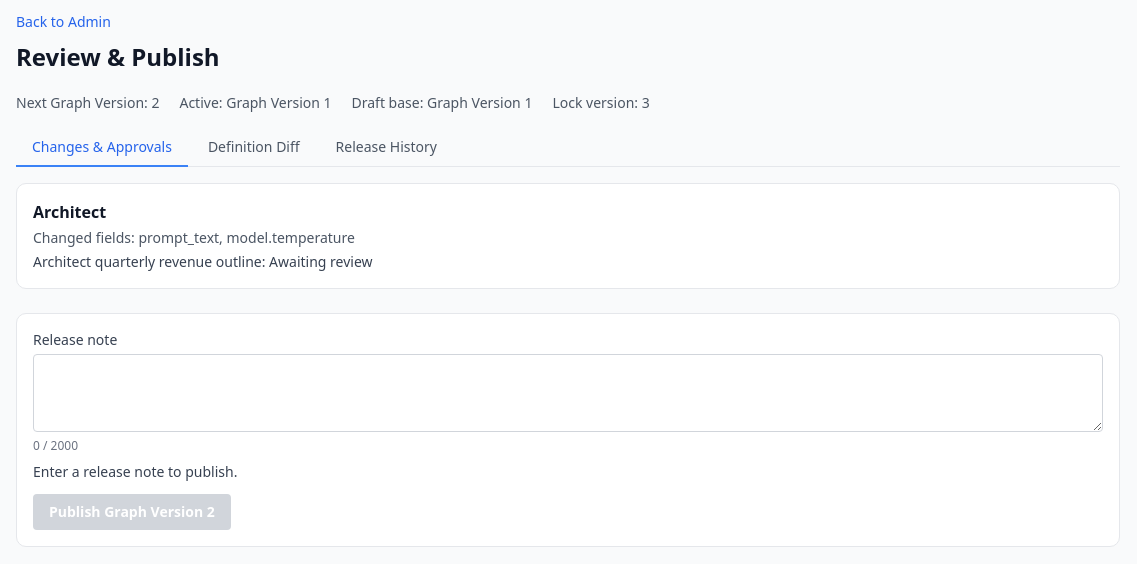
Test: ReviewAndPublishPage: the Publish button (Correction 22) › is enabled by the server's publishable=true even when readiness reads blocking (C32: informational)
Check: the text "Next Graph Version: 2" is shown, box [16, 93, 160, 113]
Step 1. Type "A complete release note" into the text box with test id "release-note-input" → (568, 393), box [33, 354, 1103, 432]
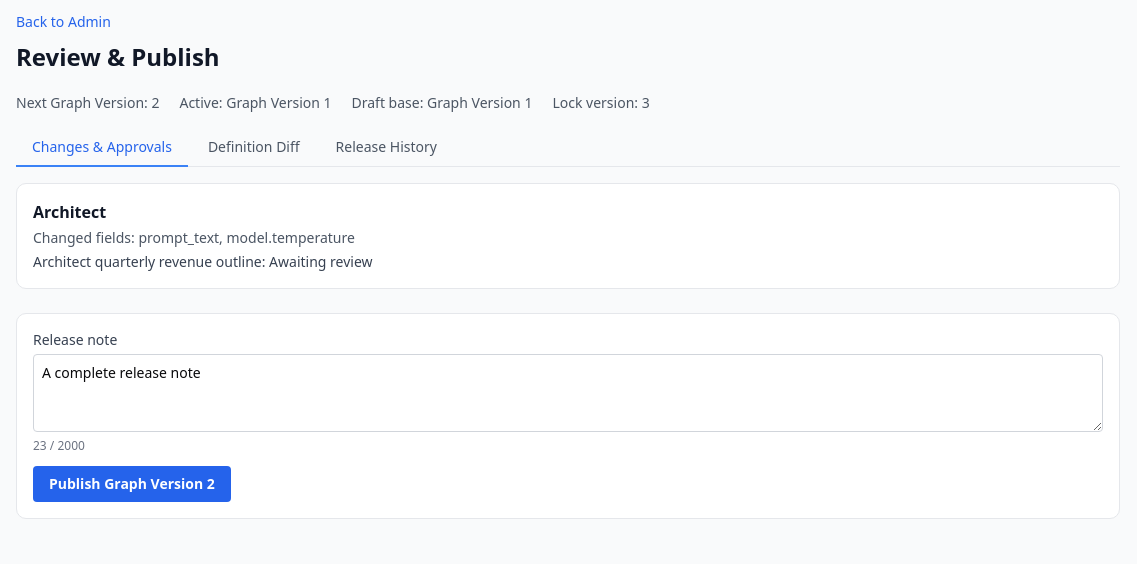
Check: the button with test id "release-publish-button" is enabled, box [33, 466, 231, 502]
